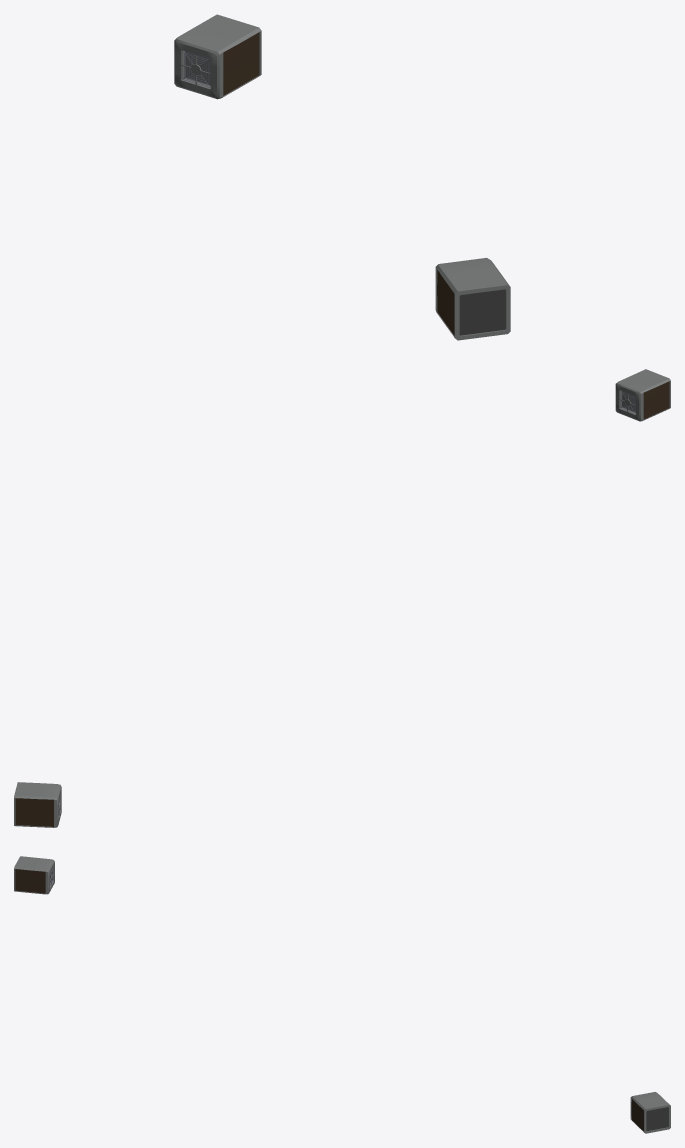
The model's file is Fontes.fbx.
3 views of the same model, one above another, from view 1: azimuth 30°, elevation 25°; view 2: azimuth 150°, elevation 25°; view 3: azimuth 270°, elevation 25° (orthographic). The views are drawn at different scales.
Parts seen in each view (by area): view 1: Fonte, Fonte.001; view 2: Fonte.001, Fonte; view 3: Fonte.001, Fonte.
Boxes of the visible parts, x1,y1,x2,y2 form: Fonte: (174, 14, 261, 99); Fonte.001: (435, 257, 510, 340); Fonte.001: (615, 369, 670, 421); Fonte: (14, 782, 61, 827); Fonte.001: (14, 856, 54, 894); Fonte: (630, 1092, 670, 1133).
Bounding box in the file's own units: 152 × 117 × 403.
